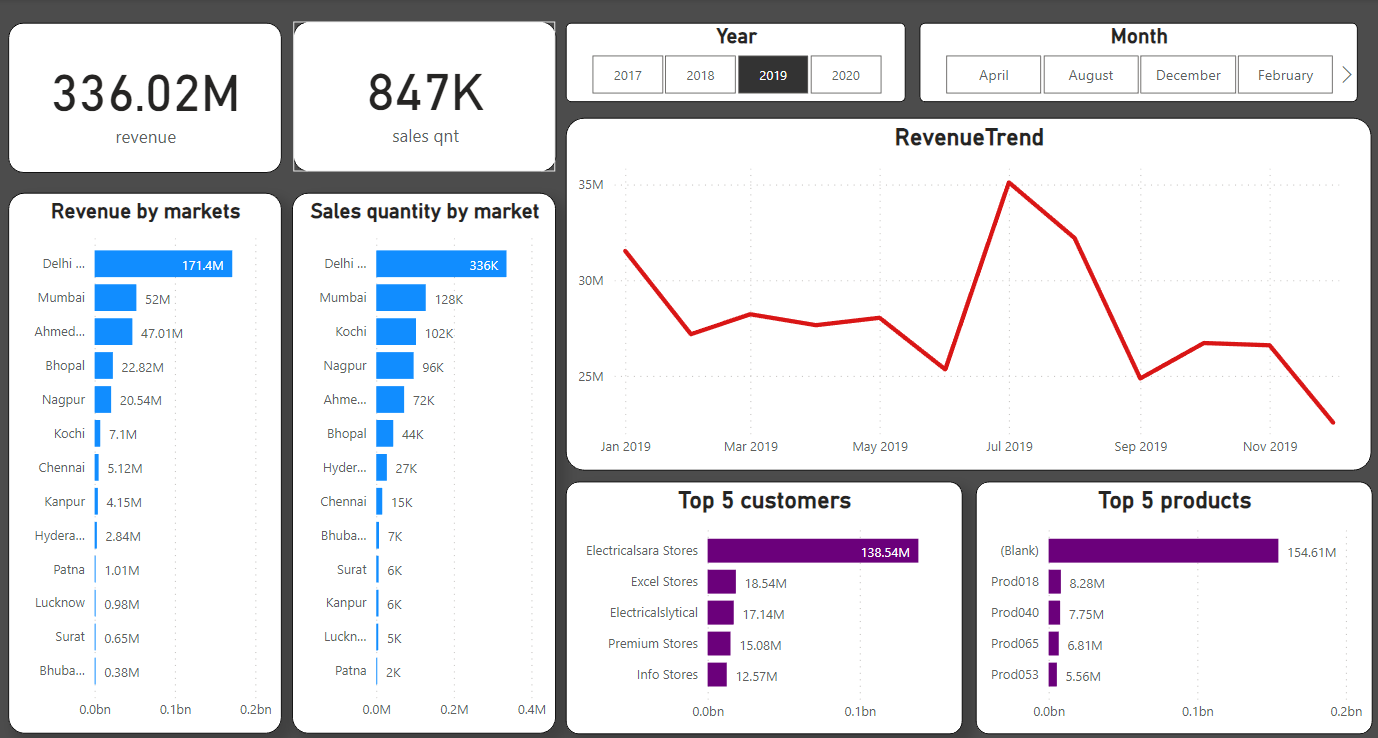

Layout of this report page (visuals, bound fields, positions):
{"tool":"powerbi","page":{"name":"Page 1","canvas":[1286,692],"ordinal":0},"visuals":[{"type":"card","fields":{"Values":["basemeasures.revenue"]},"box":[12.9,10.6,251.4,129.2],"z":0},{"type":"card","fields":{"Values":["basemeasures.sales qnt"]},"box":[290.2,0,192.7,159.8],"z":1000},{"type":"barChart","title":"Revenue by markets","fields":{"Y":["basemeasures.revenue"],"Category":["sales markets.markets_name"]},"box":[10.6,219.7,253.8,461.7],"z":2000},{"type":"barChart","title":"Sales quantity by market","fields":{"Y":["basemeasures.sales qnt"],"Category":["sales markets.markets_name"]},"box":[264.3,219.7,244.4,461.7],"z":3000},{"type":"slicer","fields":{"Values":["sales date.cy_date"]},"box":[844.7,30.5,419.4,65.8],"z":4000},{"type":"barChart","title":"Top 5 customers","fields":{"Category":["sales customers.custmer_name"],"Y":["basemeasures.revenue"]},"box":[502.8,447.6,367.7,233.8],"z":5000},{"type":"slicer","title":"Year","fields":{"Values":["sales date.year"]},"box":[548.7,30.5,300.8,59.9],"z":6000},{"type":"barChart","title":"Top 5 products","fields":{"Y":["basemeasures.revenue"],"Category":["sales products.product_code"]},"box":[876.5,447.6,367.7,233.8],"z":7000},{"type":"lineChart","title":"RevenueTrend","fields":{"Y":["basemeasures.revenue"],"Category":["sales date.cy_date.Variation.Date Hierarchy.Year","sales date.cy_date.Variation.Date Hierarchy.Quarter","sales date.cy_date.Variation.Date Hierarchy.Month","sales date.cy_date.Variation.Date Hierarchy.Day"]},"box":[615.6,139.8,599.2,245.5],"z":8000}]}

Visuals, with their boxes in screenshot pixels (x1, y1, x2, y2), scaled from the page's 1286x692 canvas onto the 1378x738 screenshot:
card - basemeasures.revenue: bbox=(14, 11, 283, 149)
card - basemeasures.sales qnt: bbox=(311, 0, 517, 170)
"Revenue by markets" barChart: bbox=(11, 234, 283, 727)
"Sales quantity by market" barChart: bbox=(283, 234, 545, 727)
slicer - sales date.cy_date: bbox=(905, 33, 1355, 103)
"Top 5 customers" barChart: bbox=(539, 477, 933, 727)
"Year" slicer: bbox=(588, 33, 910, 96)
"Top 5 products" barChart: bbox=(939, 477, 1333, 727)
"RevenueTrend" lineChart: bbox=(660, 149, 1302, 411)
